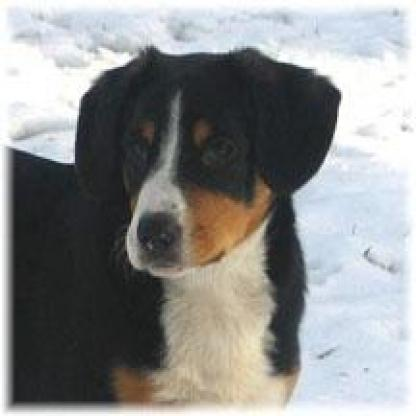EntleBucher: (0, 46, 341, 410)
